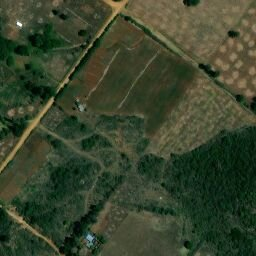tree: (31, 33, 44, 48), (31, 86, 43, 96), (50, 139, 61, 149), (184, 240, 193, 250), (235, 94, 245, 103), (77, 29, 87, 37), (203, 64, 211, 72), (232, 31, 240, 38), (212, 70, 220, 77)
